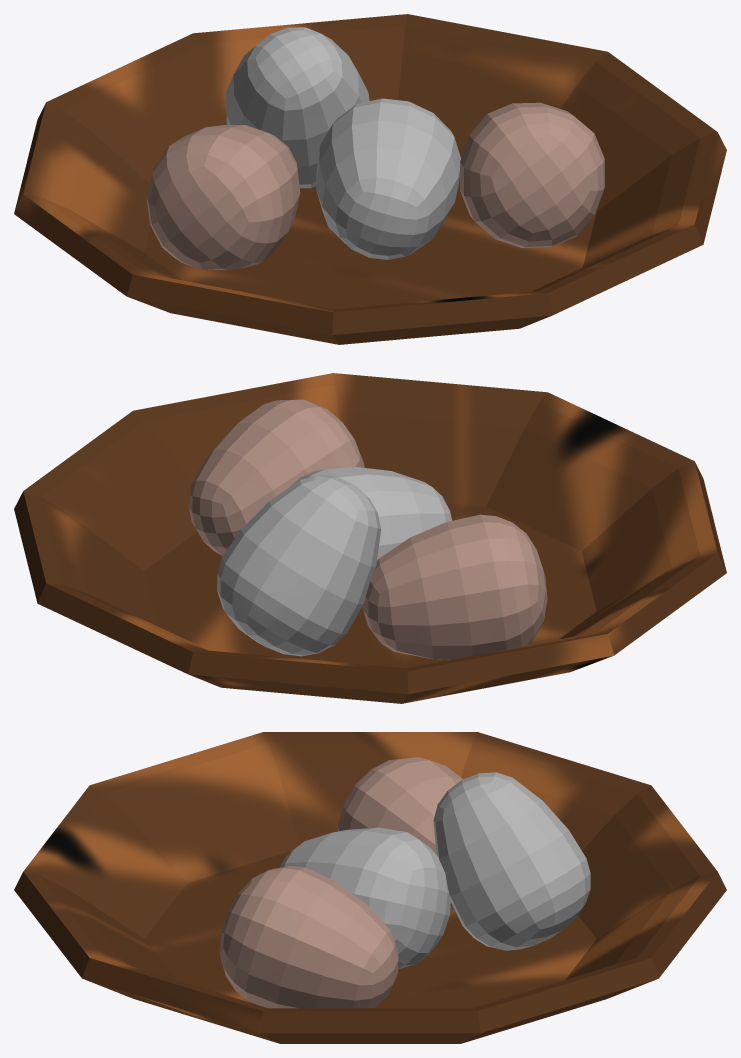
File: egg_remain4.obj
The picture shows the model from 3 angles, top to bottom: view 1: azimuth 30°, elevation 25°; view 2: azimuth 150°, elevation 25°; view 3: azimuth 270°, elevation 25°; orthographic projection. The views are drawn at different scales.
Parts seen in each view (by area): view 1: Egg_Whole_Cube.002; view 2: Egg_Whole_Cube.002; view 3: Egg_Whole_Cube.002.
Part boxes in pixels (x1=…): Egg_Whole_Cube.002: x1=14, y1=14, x2=726, y2=344; Egg_Whole_Cube.002: x1=14, y1=373, x2=726, y2=703; Egg_Whole_Cube.002: x1=14, y1=732, x2=726, y2=1043.
Size of the model in its own units: 1.74 by 0.5022 by 1.83.
Materials: 1 (1 with a texture image).
